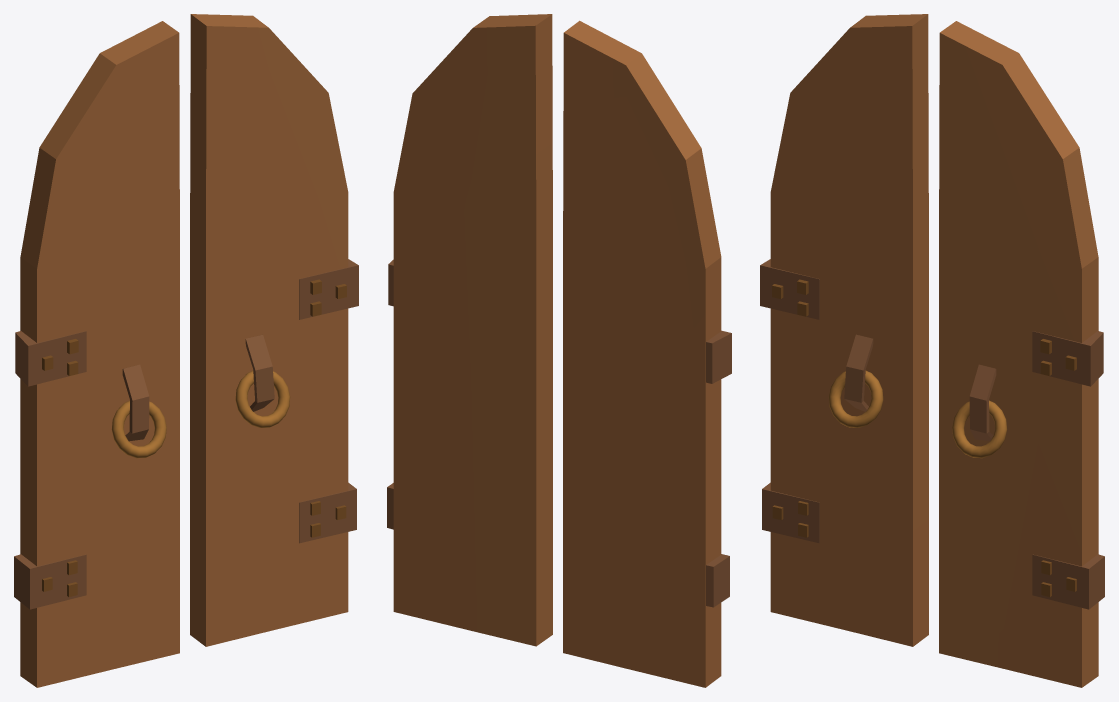
The model's file is Door 1.fbx.
The picture shows the model from 3 angles, left to right: view 1: azimuth 30°, elevation 25°; view 2: azimuth 150°, elevation 25°; view 3: azimuth 330°, elevation 25°; orthographic projection.
Parts seen in each view (by area): view 1: door wood 3.001; view 2: door wood 3.001; view 3: door wood 3.001.
Part boxes in pixels (<box>): door wood 3.001: <box>14,14,358,687</box>; door wood 3.001: <box>387,14,731,687</box>; door wood 3.001: <box>760,14,1104,687</box>.
Size of the model in its own units: 108 by 194 by 18.9.
